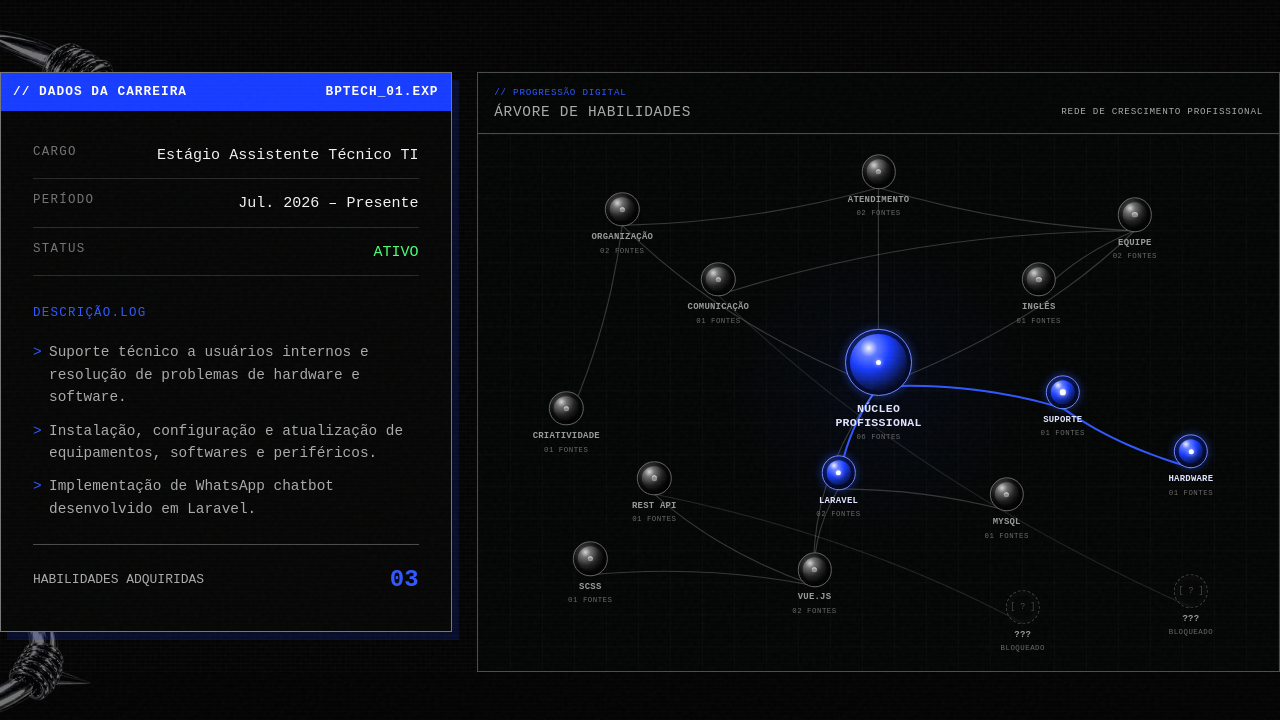
Test: CareerExperience › shows every contributor for a shared skill on touch or click
(page scrolled)
Click the button with aria-label "Habilidade: VUE.JS".
click(814, 585)  # box 763,552 -> 866,618
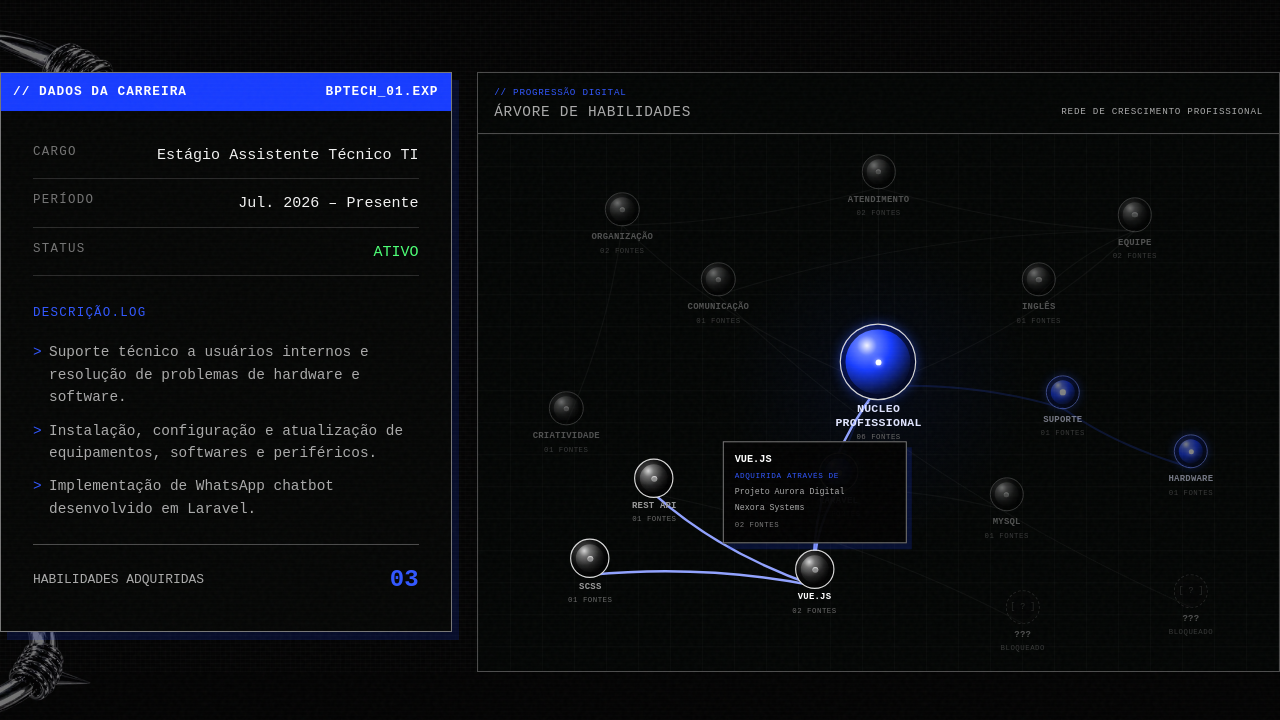
Expected: the button with aria-label "Habilidade: VUE.JS" shows "Projeto Aurora Digital", 763,552 -> 866,618
Expected: the button with aria-label "Habilidade: VUE.JS" shows "Nexora Systems", 763,552 -> 866,618
